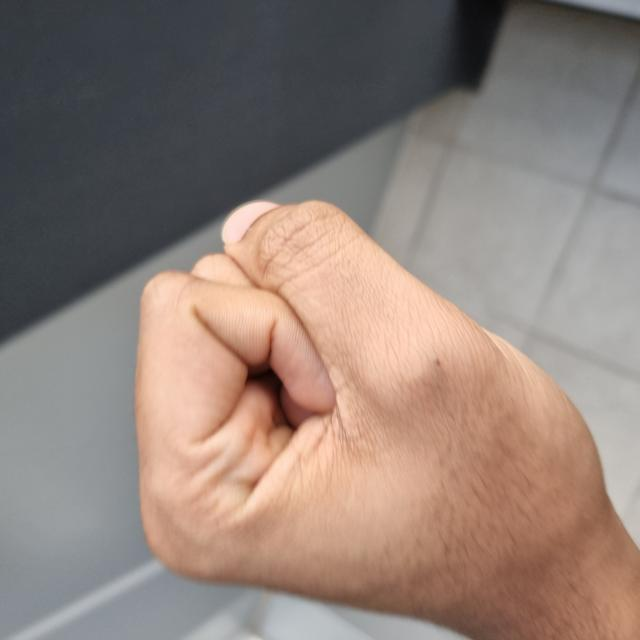Rock: (1, 134, 437, 604)
